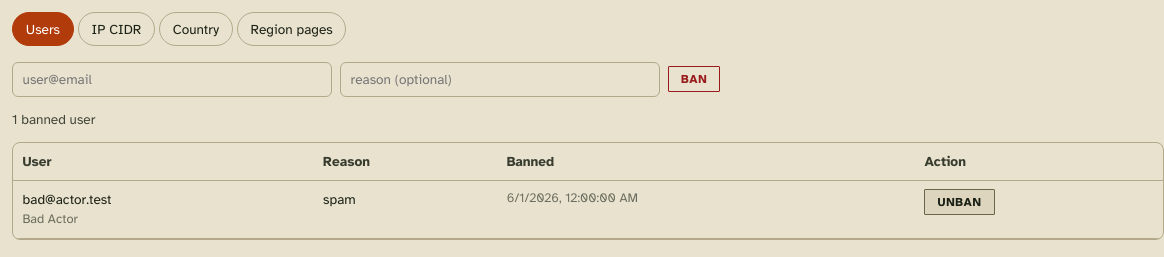
it: BanManagement (#112) › unbans a listed user and removes the row
Expected: the text "bad@actor.test" is shown, [23,191,112,208]
Click the button "Unban". click: [960, 202]
box: [924,189,995,215]
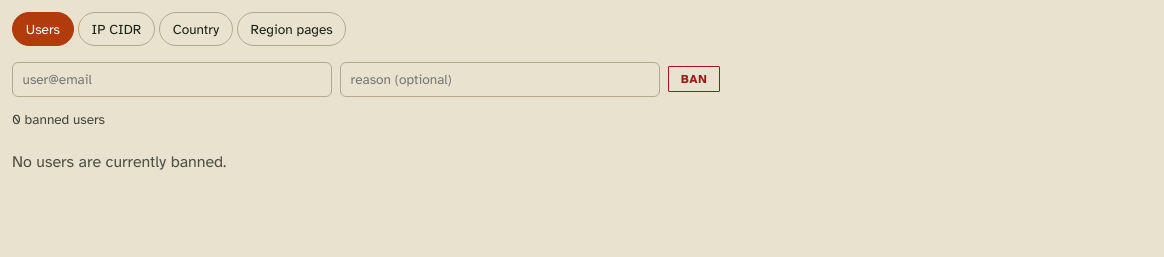
Result: the text "bad@actor.test" is gone
